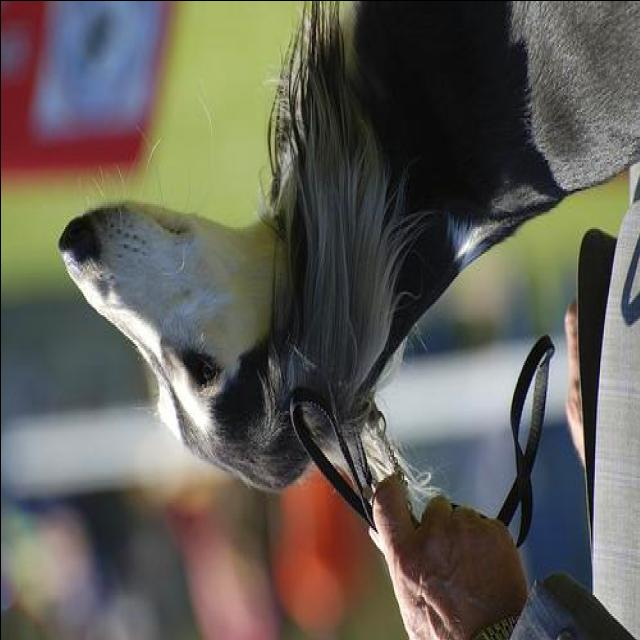saluki: (51, 1, 639, 496)
